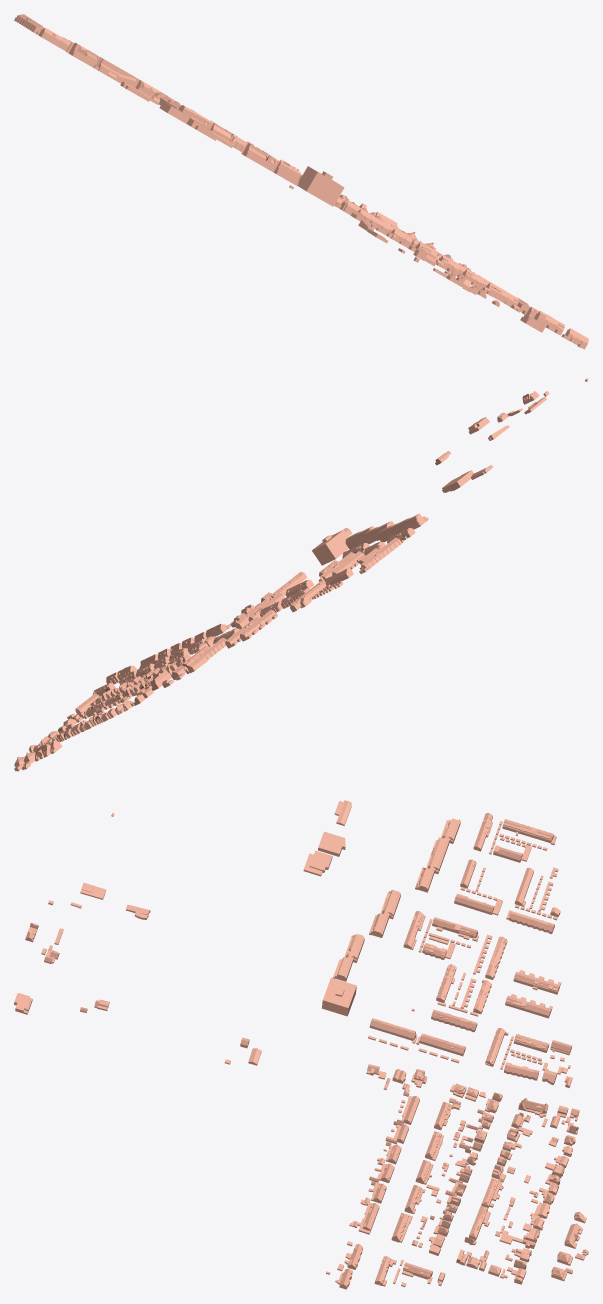
The picture shows the model from 3 angles, top to bottom: view 1: azimuth 30°, elevation 25°; view 2: azimuth 150°, elevation 25°; view 3: azimuth 270°, elevation 25°; orthographic projection. The views are drawn at different scales.
Bounding box in the file's own units: 478 × 371 × 628.
